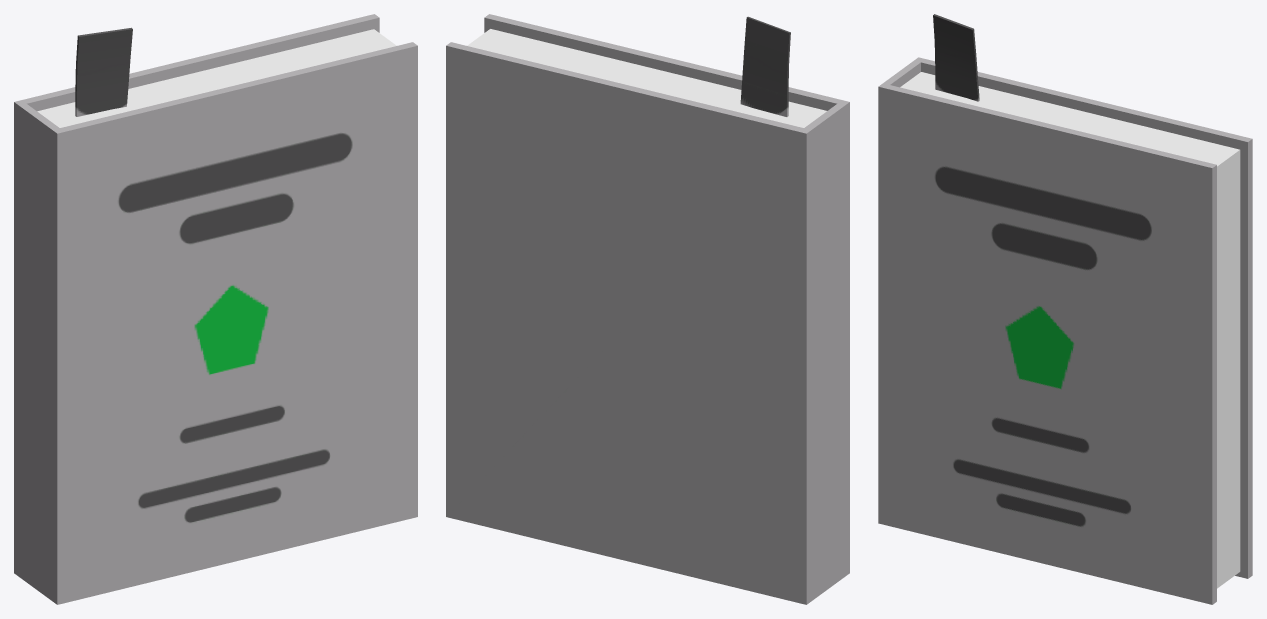
The model's file is Jurnal.fbx.
3 views of the same model, side by side, from view 1: azimuth 30°, elevation 25°; view 2: azimuth 150°, elevation 25°; view 3: azimuth 330°, elevation 25° (orthographic). The views are drawn at different scales.
Visible parts, largest first — view 1: node_id49, node_id105; view 2: node_id49, node_id105; view 3: node_id49, node_id105.
Boxes of the visible parts, left/top/right/bottom form: node_id49: left=14, top=14, right=417, bottom=604; node_id105: left=37, top=29, right=396, bottom=127; node_id49: left=446, top=14, right=849, bottom=604; node_id105: left=467, top=29, right=826, bottom=127; node_id49: left=878, top=14, right=1252, bottom=604; node_id105: left=900, top=72, right=1240, bottom=588.
Size of the model in its own units: 0.2022 by 0.292 by 0.0421.
2 materials, 1 textured.
